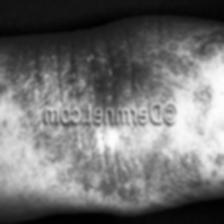Non-Cancerous Skin Condition: (23, 40, 167, 102), (87, 128, 157, 200)
